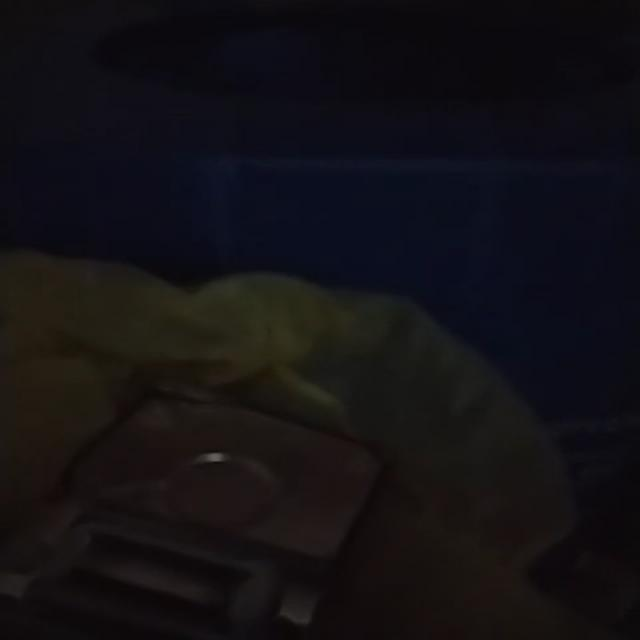bin: (2, 0, 640, 640)
metal: (3, 394, 381, 640)
